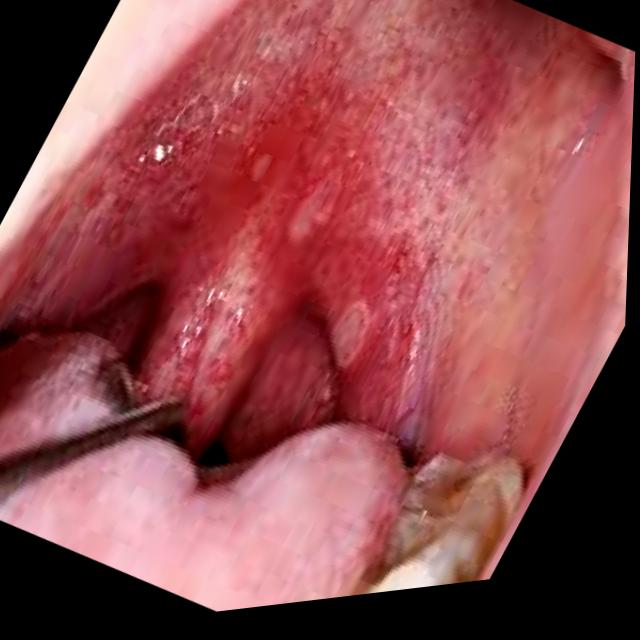ulcer: (330, 300, 367, 364), (289, 196, 322, 240), (250, 152, 271, 178)
